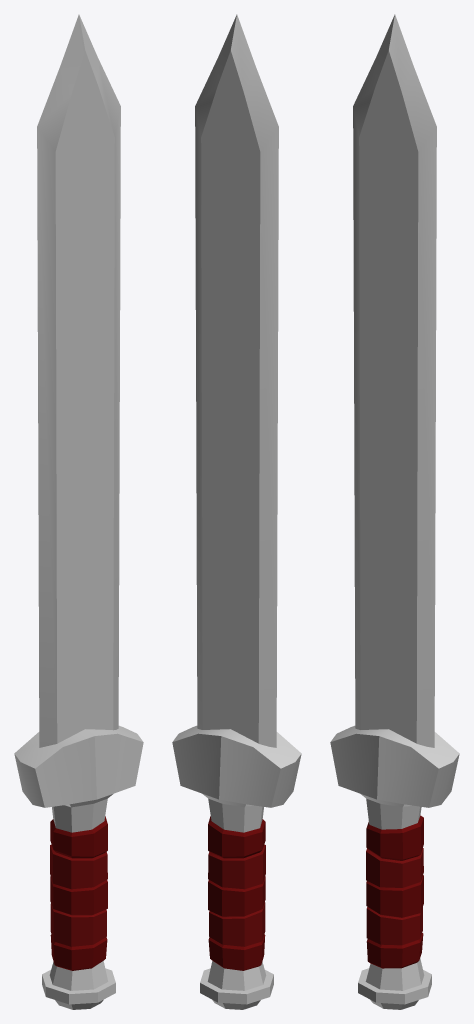
Rendered from Steel Shortsword.fbx.
The picture shows the model from 3 angles, left to right: view 1: azimuth 30°, elevation 25°; view 2: azimuth 150°, elevation 25°; view 3: azimuth 330°, elevation 25°; orthographic projection.
Visible parts, largest first — view 1: Steel Shortsword; view 2: Steel Shortsword; view 3: Steel Shortsword.
Part boxes in pixels (x1,y1,x2,y2): Steel Shortsword: (14,14,143,1009); Steel Shortsword: (172,14,301,1009); Steel Shortsword: (330,14,459,1009).
Size of the model in its own units: 8.59 by 70.05 by 4.83.
